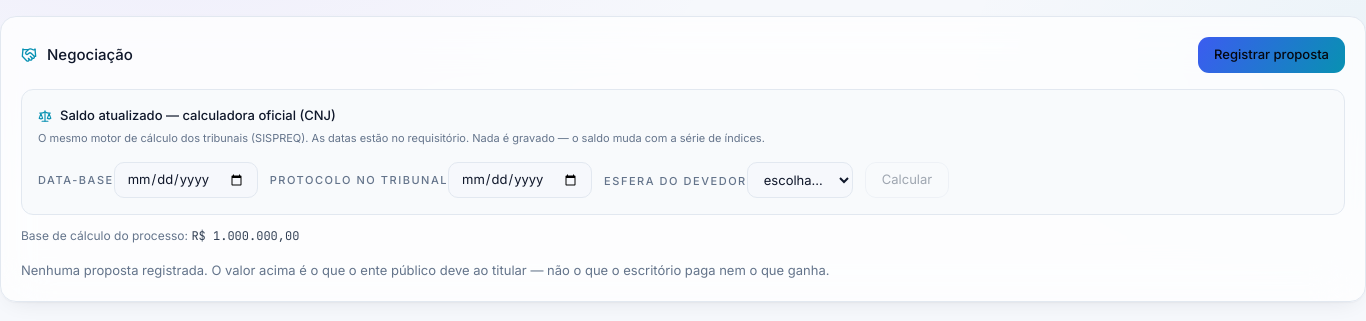
Test: Calculadora oficial (CNJ) › tribunal TRABALHISTA exige escolher a esfera do devedor
The image size is (1366, 321).
Expected: the text "Saldo atualizado — calculadora oficial (CNJ)" is shown, top-left (38, 107), bottom-right (336, 123)
Expected: the text "Esfera do devedor" is shown, top-left (604, 174), bottom-right (747, 188)
Type "2024-07-01" into the date field labelled "Data-base".
click(186, 180); type("2024-07-01")  # box top-left (114, 162), bottom-right (258, 198)
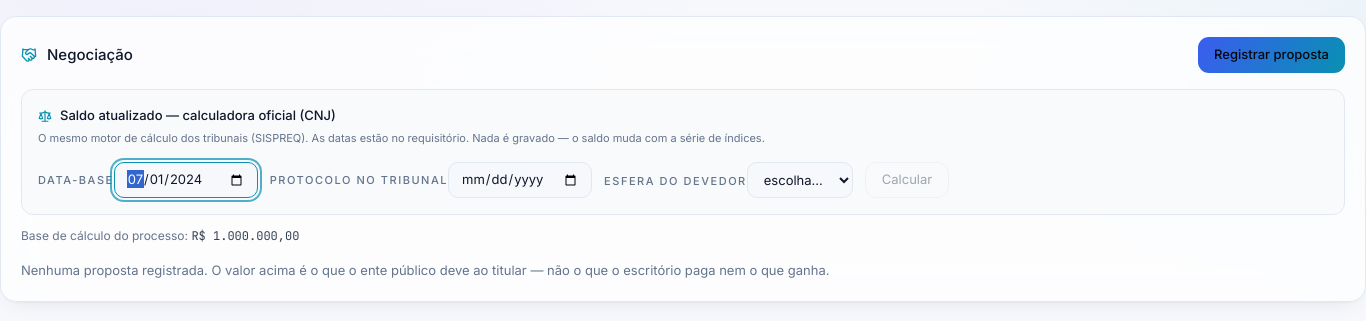
Type "2024-08-15" into the date field labelled "Protocolo no tribunal".
click(520, 180); type("2024-08-15")  # box top-left (448, 162), bottom-right (592, 198)
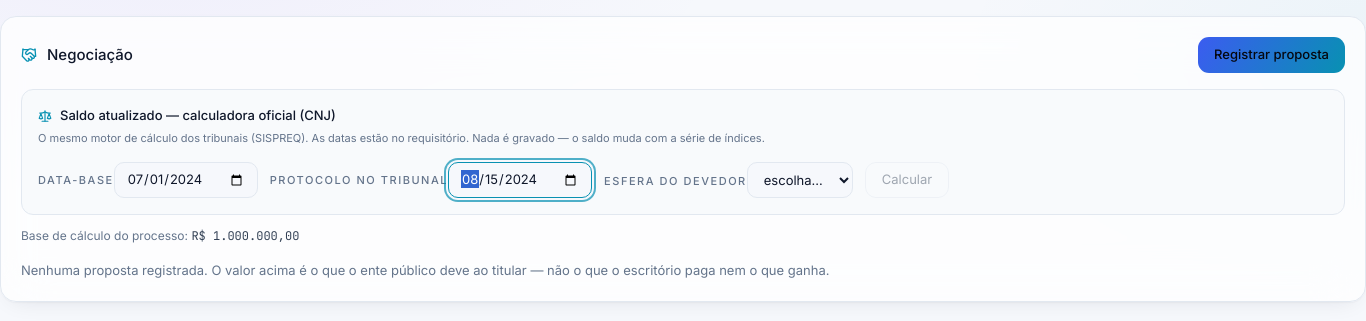
Expected: the button "Calcular" is disabled, top-left (865, 162), bottom-right (949, 198)
Select "Estadual" in the dropdown at [800, 180], box top-left (747, 162), bottom-right (853, 198)
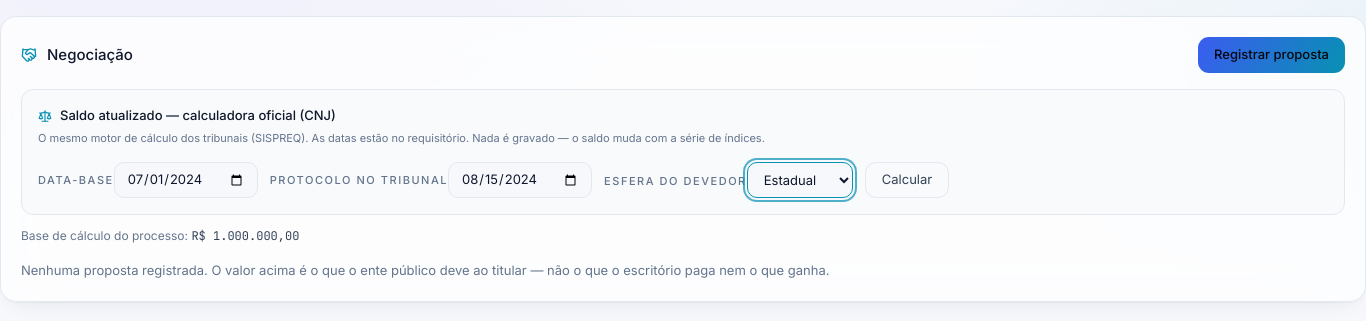
Expected: the button "Calcular" is enabled, top-left (865, 162), bottom-right (949, 198)
